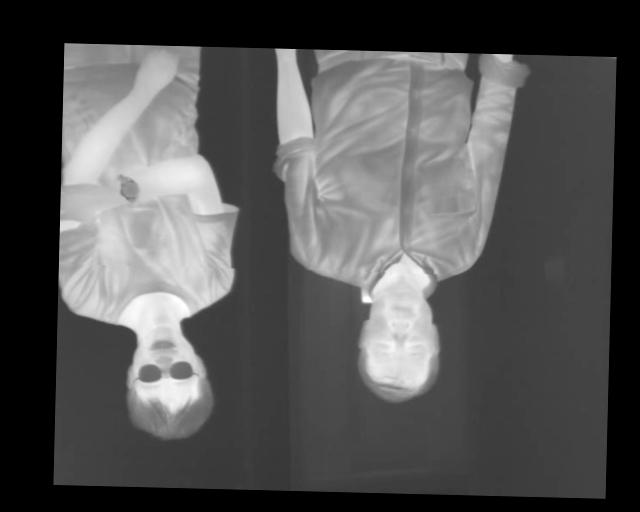face: (355, 278, 441, 405), (124, 322, 213, 440)
